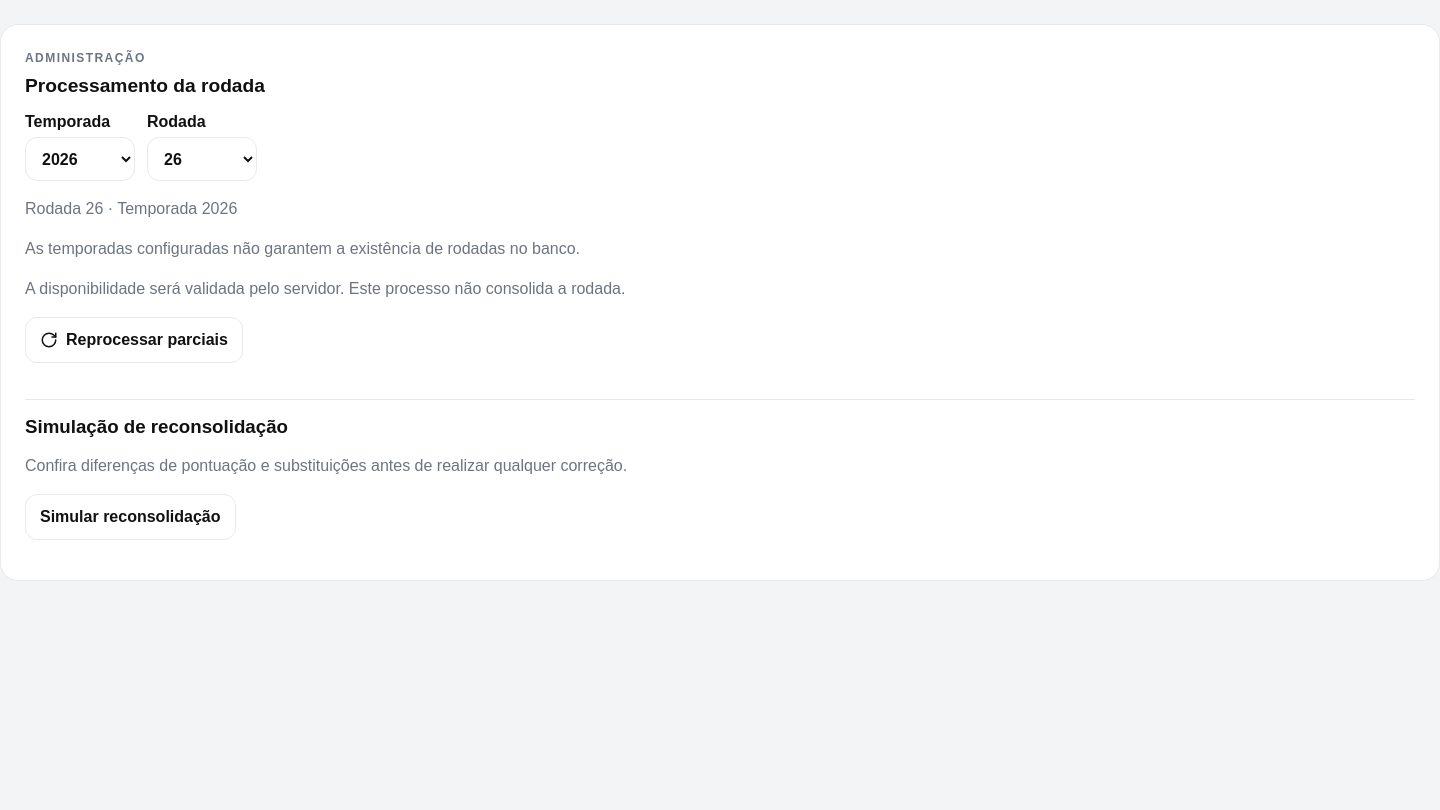
Test case: trata erro 403 technical
Click the button "Reprocessar parciais": point(134, 340) left=25, top=317, right=243, bottom=363
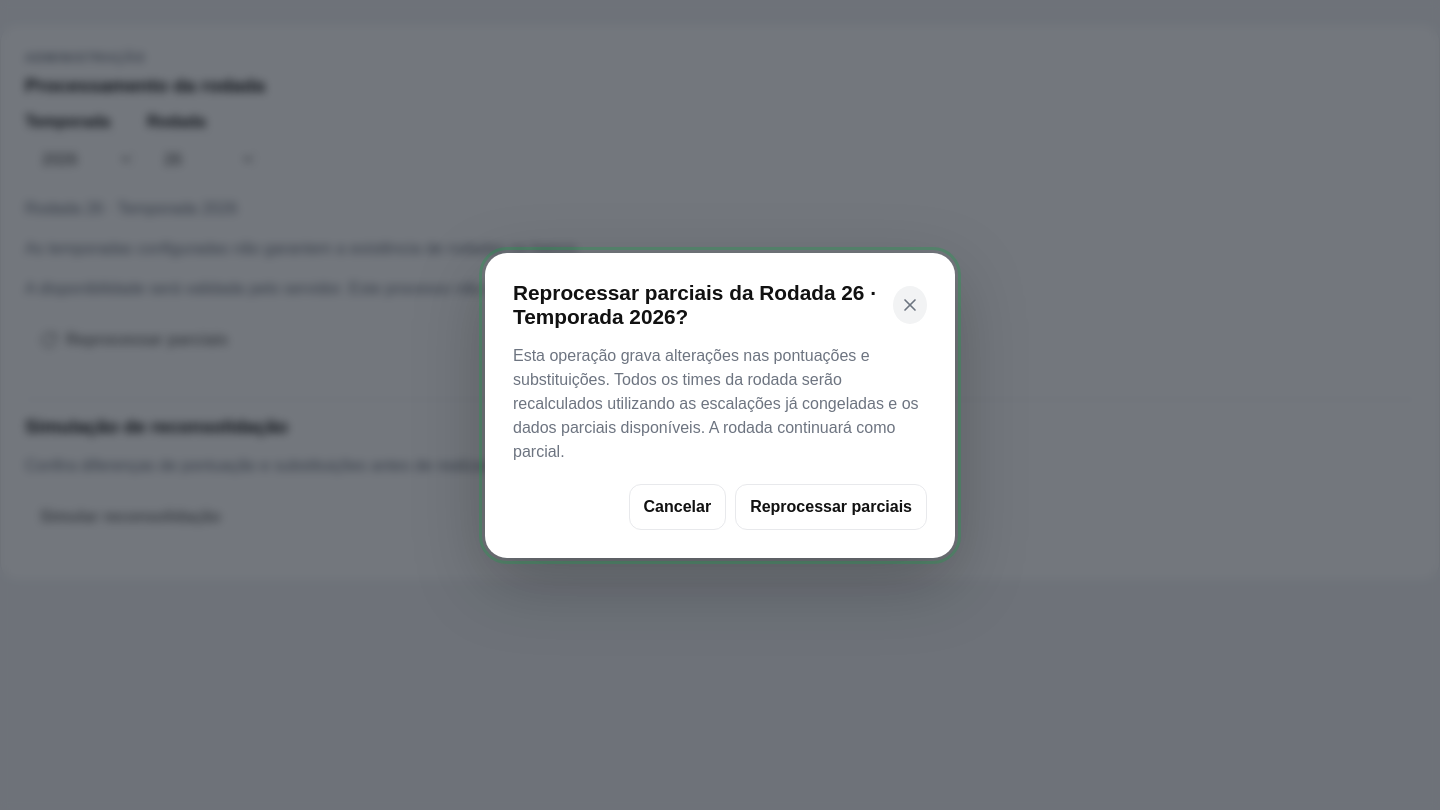
Click the 2nd button "Reprocessar parciais": point(831, 506) left=735, top=484, right=927, bottom=530
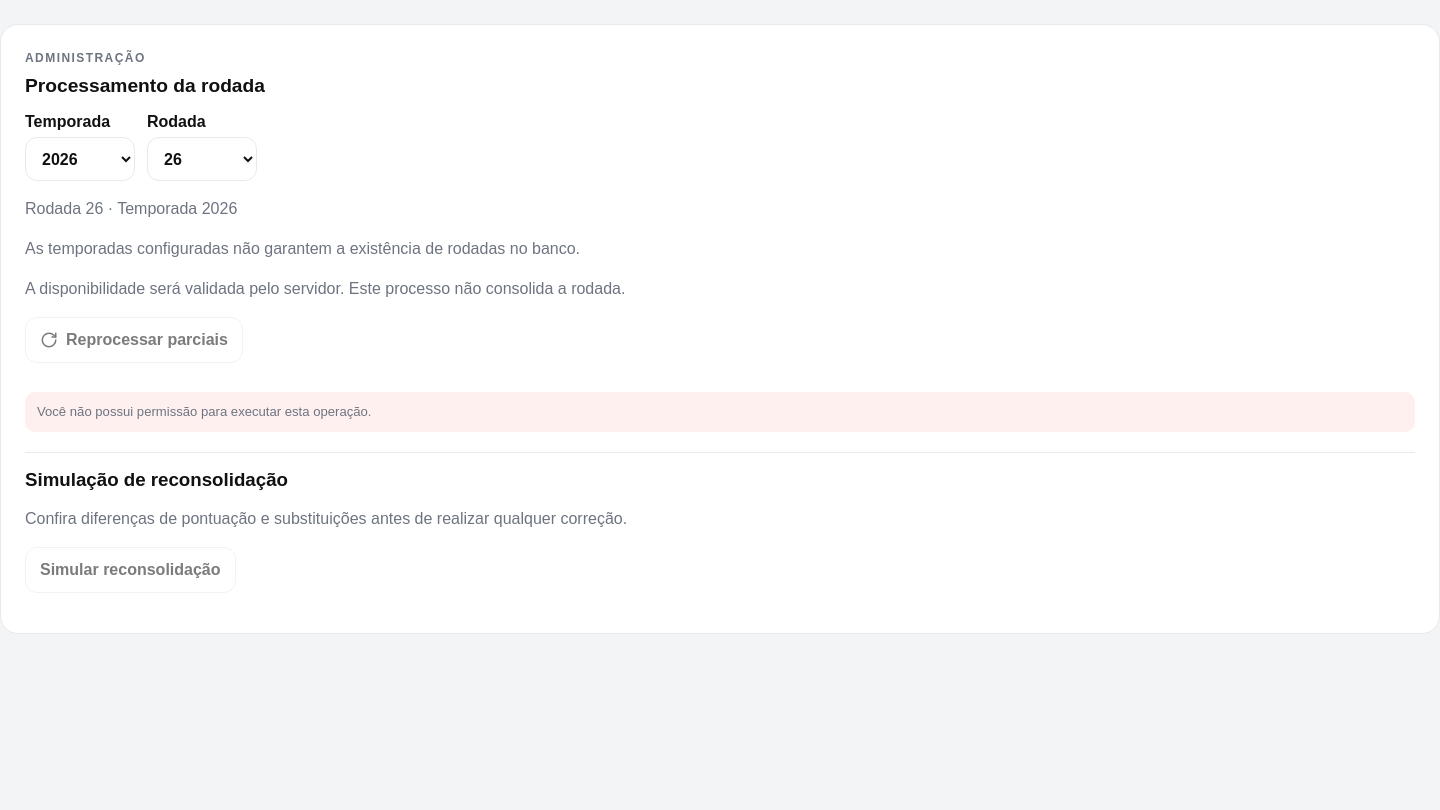
Result: the message reads "Você não possui permissão para executar esta operação." at left=37, top=404, right=372, bottom=419
